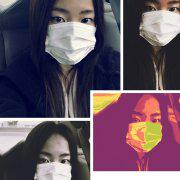OK: (41, 5, 99, 63), (142, 1, 180, 46), (127, 111, 164, 151), (32, 149, 74, 180)
